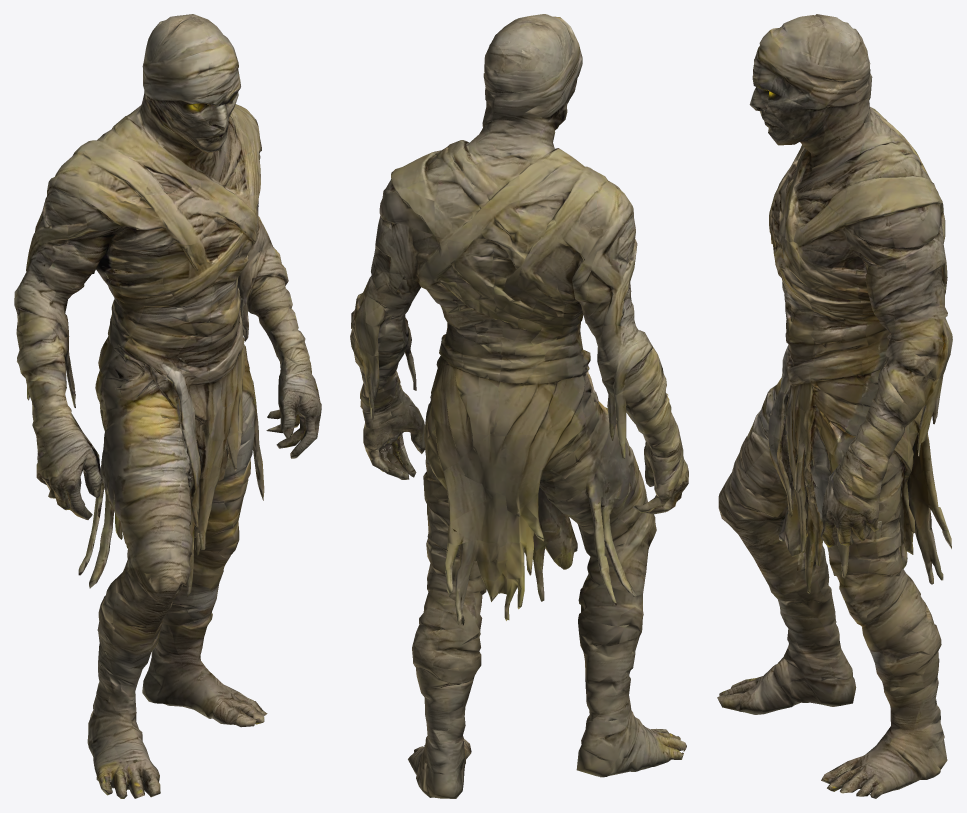
Rendered from crew-mummyB.glb.
3 views of the same model, side by side, from view 1: azimuth 30°, elevation 25°; view 2: azimuth 150°, elevation 25°; view 3: azimuth 270°, elevation 25° (orthographic).
Bounding box in the file's own units: 0.7933 × 1.9 × 0.5521.
1 material, 1 textured.
